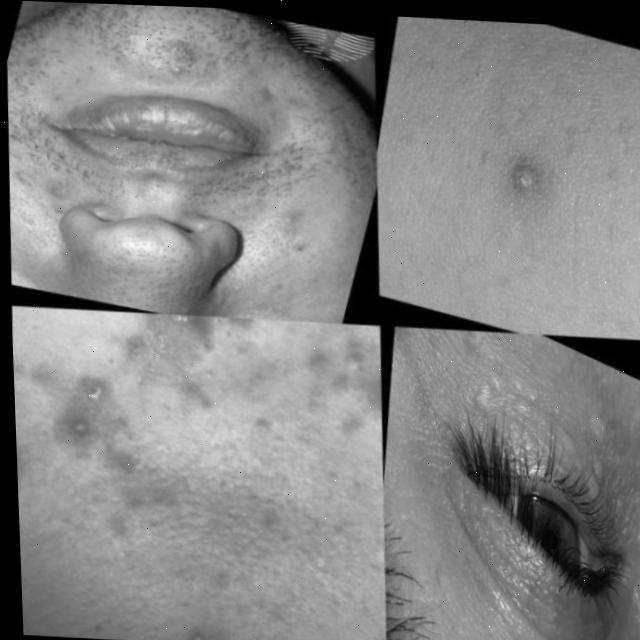Acne: (13, 344, 326, 629), (475, 397, 640, 640), (254, 71, 312, 123), (497, 138, 543, 198), (158, 26, 206, 79), (8, 170, 76, 206), (257, 201, 309, 240)
